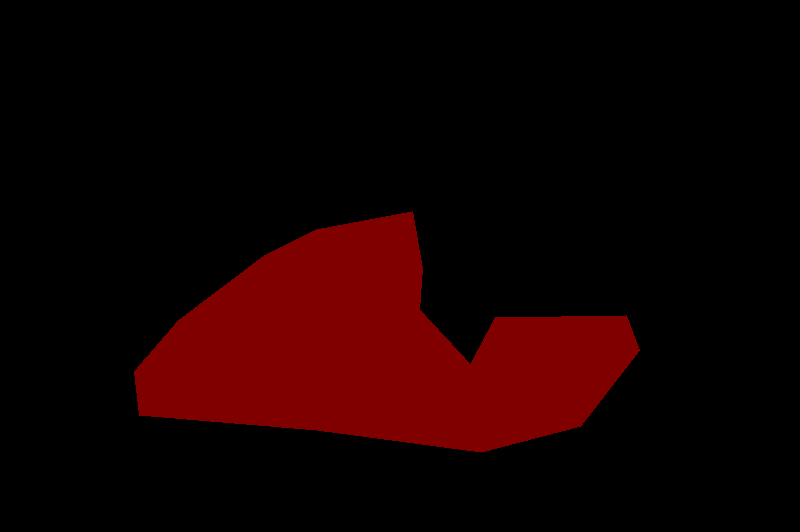fire: (134, 211, 639, 452)
